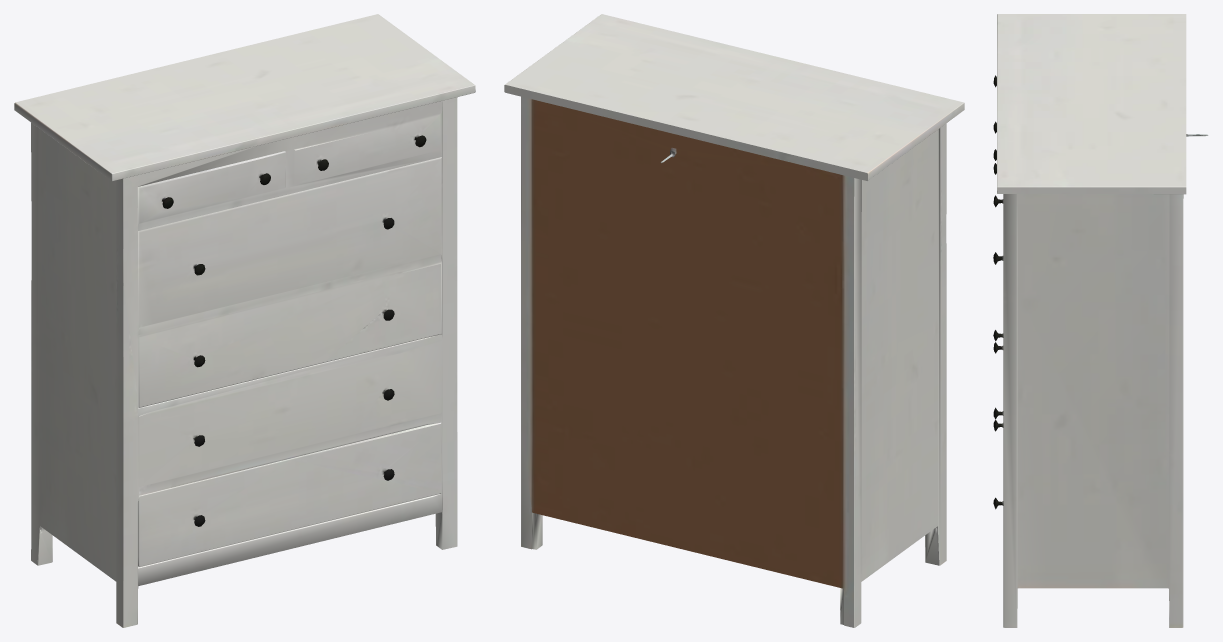
3 renders of one model, left to right at view 1: azimuth 30°, elevation 25°; view 2: azimuth 150°, elevation 25°; view 3: azimuth 270°, elevation 25°, orthographic. The views are drawn at different scales.
Visible parts, largest first — view 1: ProcessedMeshNode; view 2: ProcessedMeshNode; view 3: ProcessedMeshNode.
Boxes of the visible parts, left/top/right/bottom form: ProcessedMeshNode: left=14, top=14, right=475, bottom=627; ProcessedMeshNode: left=504, top=14, right=964, bottom=627; ProcessedMeshNode: left=993, top=14, right=1208, bottom=627.
Size of the model in its own units: 1.08 by 1.3 by 0.5658.
1 material, 1 textured.
